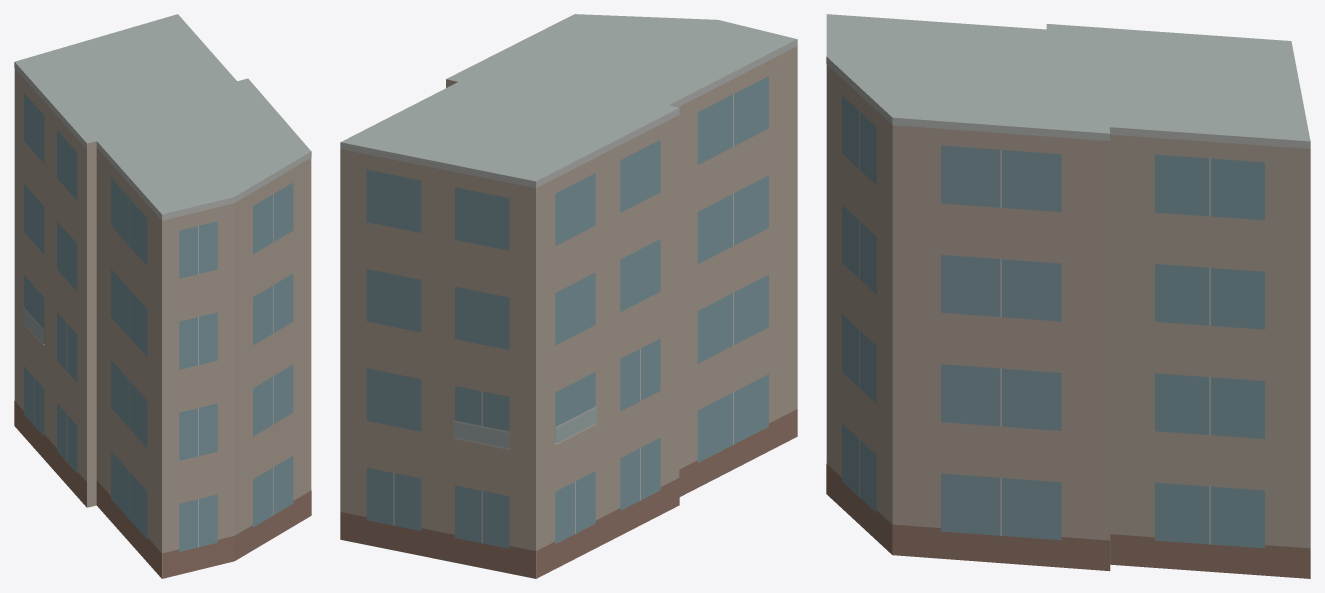
File: survey-upis-32472712.glb
3 renders of one model, left to right at view 1: azimuth 30°, elevation 25°; view 2: azimuth 150°, elevation 25°; view 3: azimuth 270°, elevation 25°, orthographic. The views are drawn at different scales.
Parts seen in each view (by area): view 1: survey-upis-32472712.tmp; view 2: survey-upis-32472712.tmp; view 3: survey-upis-32472712.tmp.
Part boxes in pixels (bbox=[...]): survey-upis-32472712.tmp: bbox=[14, 14, 311, 578]; survey-upis-32472712.tmp: bbox=[340, 14, 797, 578]; survey-upis-32472712.tmp: bbox=[826, 14, 1310, 578].
Bounding box in the file's own units: 8.94 × 14.3 × 14.36.
